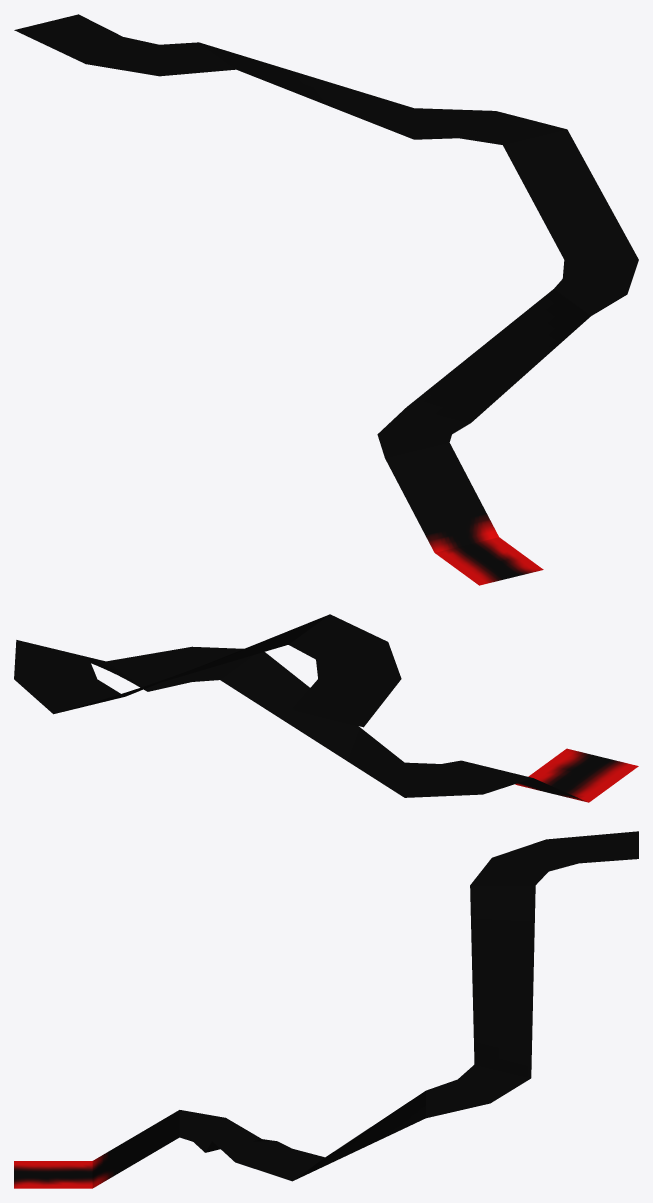
The model's file is WetRoadTest2.FBX.
The picture shows the model from 3 angles, top to bottom: view 1: azimuth 30°, elevation 25°; view 2: azimuth 150°, elevation 25°; view 3: azimuth 270°, elevation 25°; orthographic projection. The views are drawn at different scales.
Visible parts, largest first — view 1: Plane001; view 2: Plane001; view 3: Plane001.
Part boxes in pixels (x1,y1,x2,y2): Plane001: [14, 14, 638, 585]; Plane001: [14, 614, 638, 802]; Plane001: [14, 831, 638, 1188].
Bounding box in the file's own units: 93.28 × 66.39 × 133.
